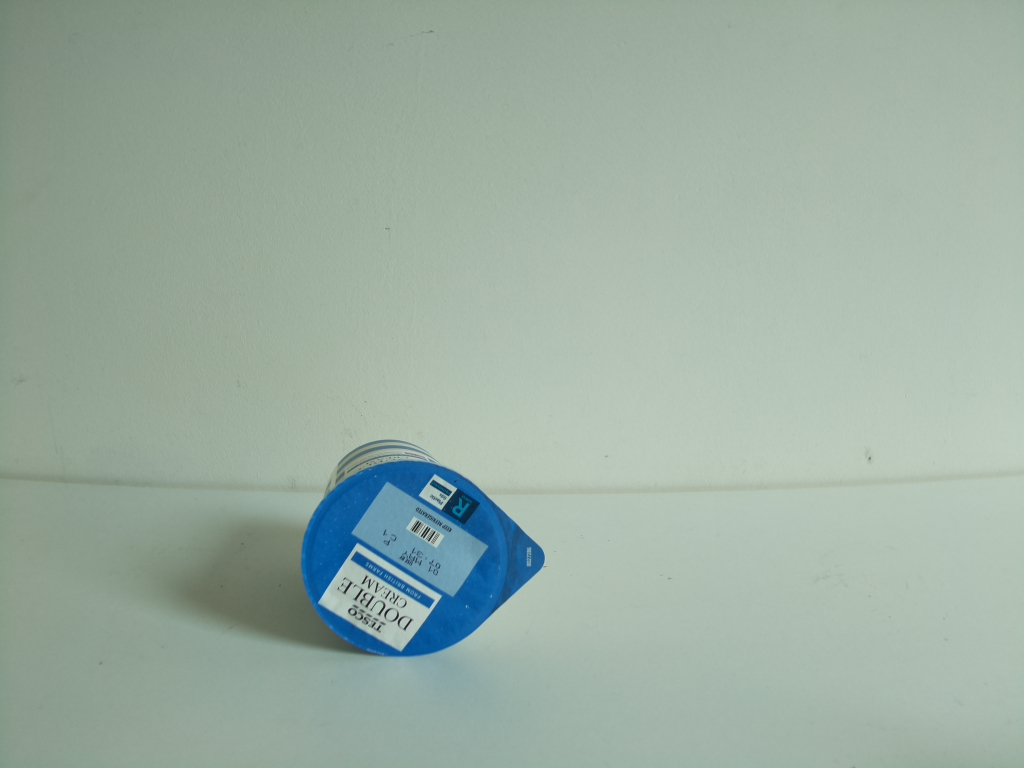cream: (298, 438, 549, 656)
